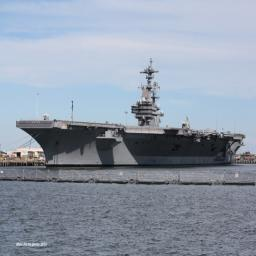Portanaves: (15, 55, 249, 169)
